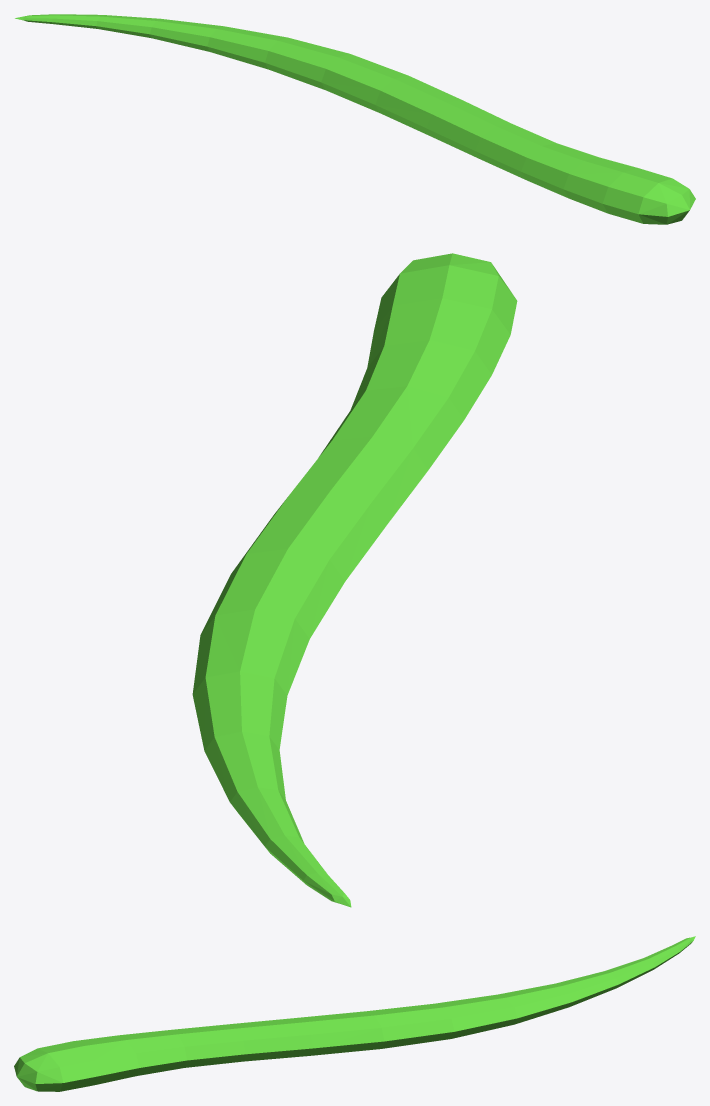
Rendered from SM_Grass_01.fbx.
3 views of the same model, one above another, from view 1: azimuth 30°, elevation 25°; view 2: azimuth 150°, elevation 25°; view 3: azimuth 270°, elevation 25° (orthographic). The views are drawn at different scales.
Visible parts, largest first — view 1: SM_Grass_01; view 2: SM_Grass_01; view 3: SM_Grass_01.
Boxes of the visible parts, bbox=[...] form: SM_Grass_01: bbox=[15, 14, 695, 224]; SM_Grass_01: bbox=[192, 253, 517, 907]; SM_Grass_01: bbox=[14, 936, 695, 1091].
Size of the model in its own units: 130 by 66.84 by 7.25.
